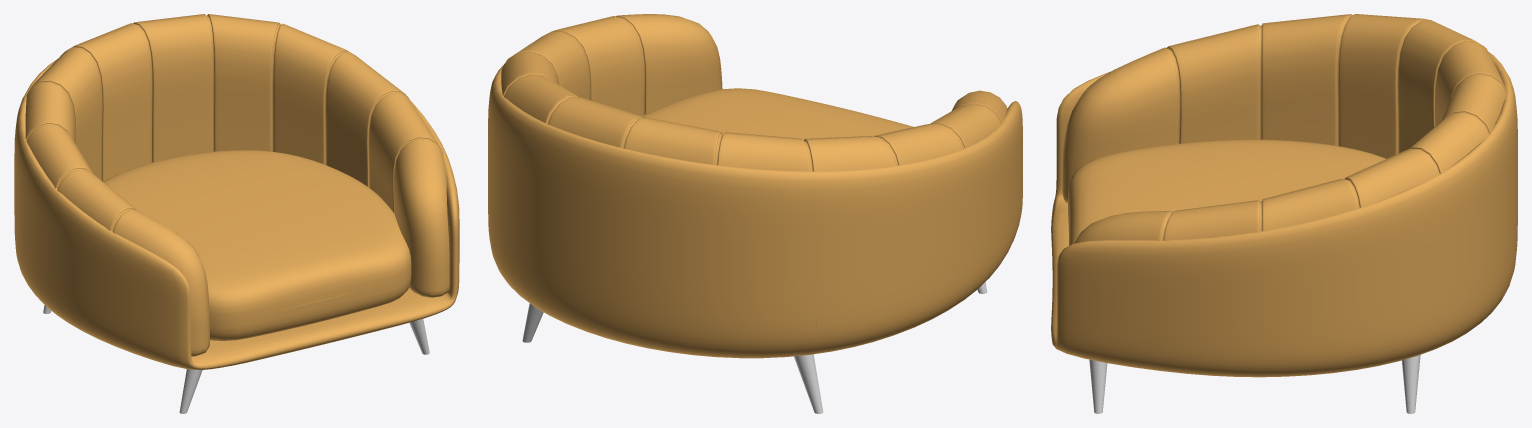
The picture shows the model from 3 angles, left to right: view 1: azimuth 30°, elevation 25°; view 2: azimuth 150°, elevation 25°; view 3: azimuth 270°, elevation 25°; orthographic projection. The views are drawn at different scales.
Visible parts, largest first — view 1: Cube.001, Cube.002, Cube, Cylinder; view 2: Cube, Cube.001, Cube.002, Cylinder; view 3: Cube, Cube.001, Cube.002, Cylinder.
Boxes of the visible parts, box(x1,y1,x2,y2) form: Cube.001: box(25, 14, 449, 356); Cube.002: box(103, 150, 411, 340); Cube: box(14, 59, 459, 369); Cylinder: box(43, 305, 429, 413); Cube: box(488, 63, 1022, 358); Cube.001: box(494, 14, 1007, 329); Cube.002: box(641, 88, 913, 140); Cylinder: box(522, 282, 986, 413); Cube: box(1051, 52, 1517, 377); Cube.001: box(1062, 14, 1506, 324); Cube.002: box(1068, 139, 1385, 245); Cylinder: box(1089, 355, 1420, 413).
Size of the model in its own units: 170 by 104 by 163.
